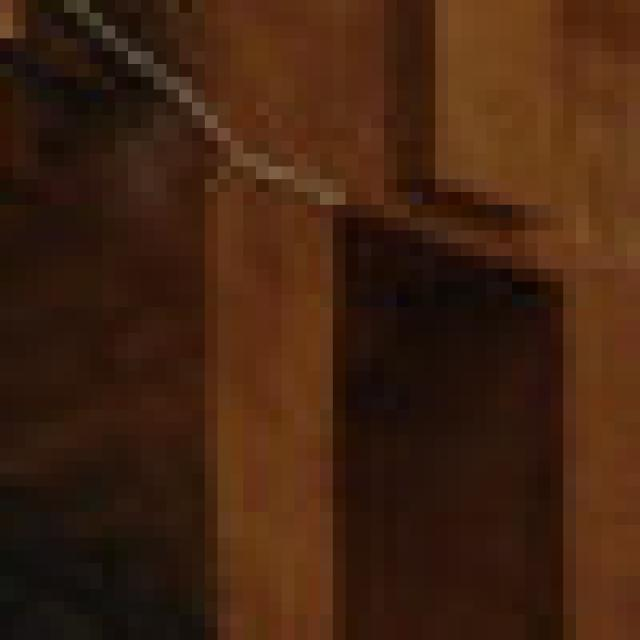no_fire: (34, 44, 640, 614)
